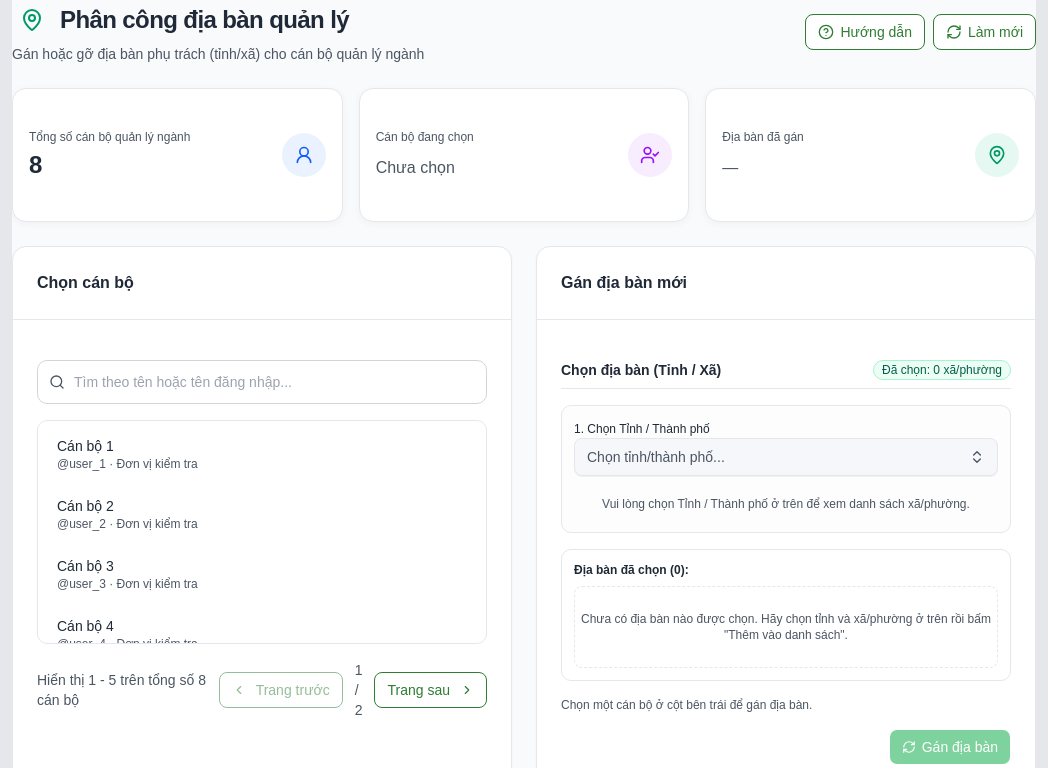
Scenario: AreaAssignmentPage › hỗ trợ phân trang khi danh sách cán bộ vượt quá 5 người
This screenshot has width=1048, height=768.
Expected: the text "Cán bộ 1" is shown, x1=57 y1=436 x2=114 y2=456
Expected: the text "Cán bộ 6" is not shown
# Chuyển sang trang sau
Click the button "Trang sau" at (431, 690), box x1=374 y1=672 x2=487 y2=708
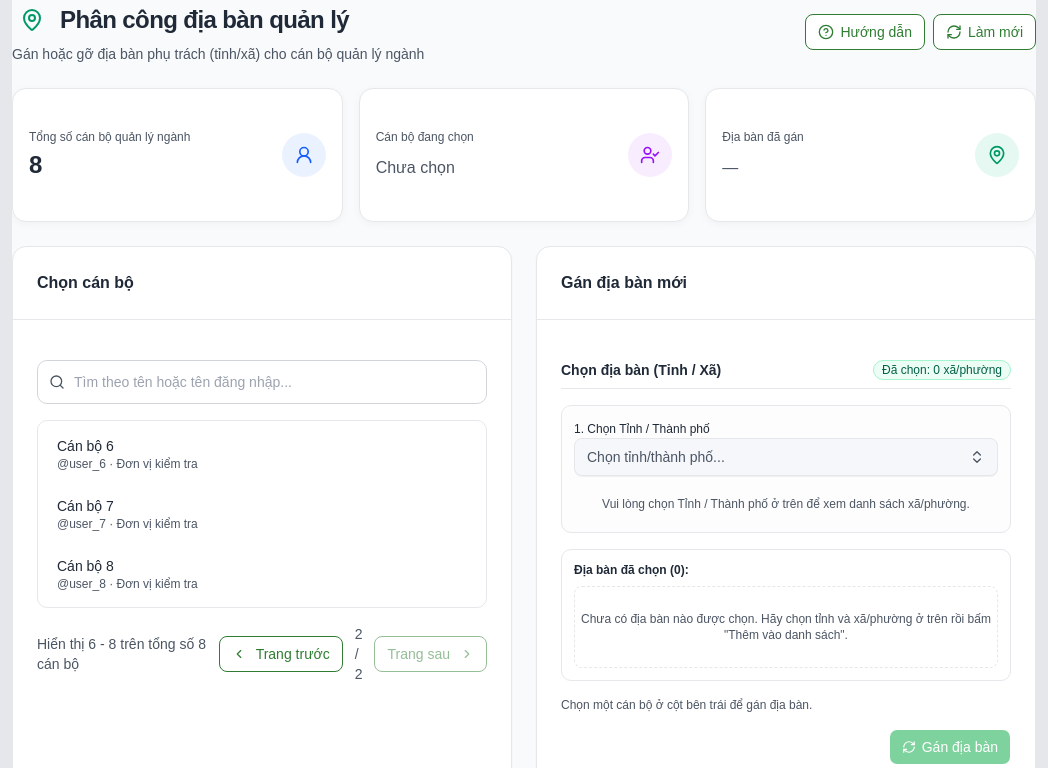
Result: the text "Cán bộ 6" is shown at x1=57 y1=436 x2=114 y2=456
Result: the text "Cán bộ 8" is shown at x1=57 y1=556 x2=114 y2=576
Result: the button "Cán bộ 1" is gone
